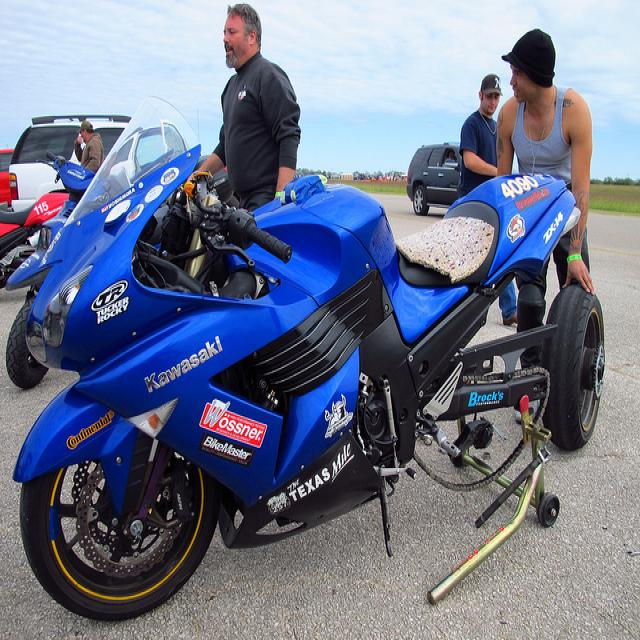motor: (20, 89, 580, 628), (0, 153, 95, 392), (0, 193, 68, 288)
